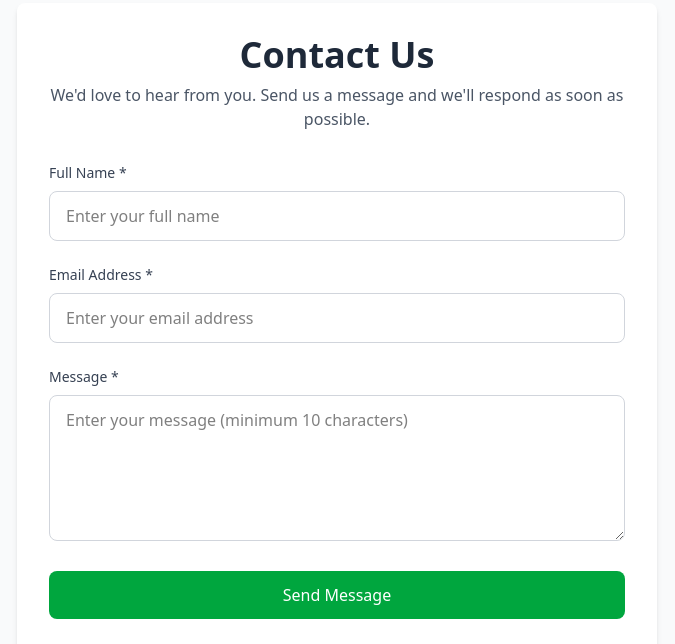
Contact Component › should show message validation error for short message
In the text box labelled "Message *": (337, 468) [49,395,625,541], type "short"
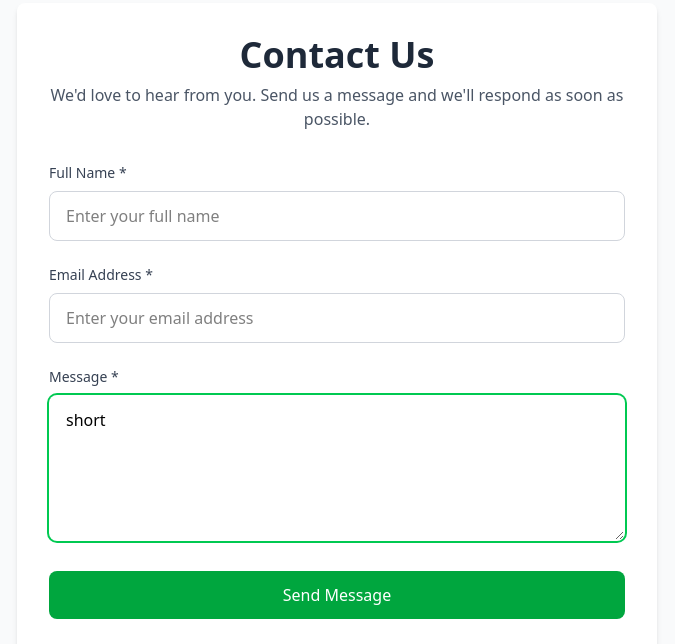
Click the button "Send Message": (337, 595) [49,571,625,619]
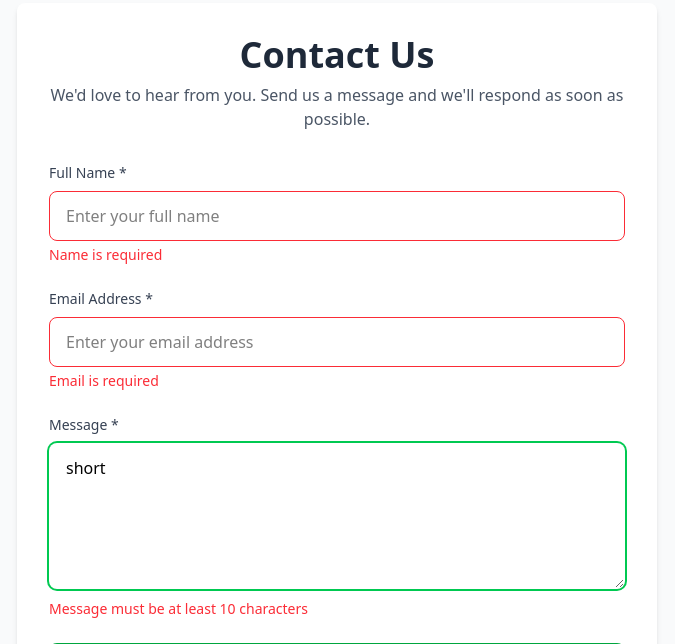
Check: the text "Message must be at least 10 characters" is shown, box [49,599,308,618]
